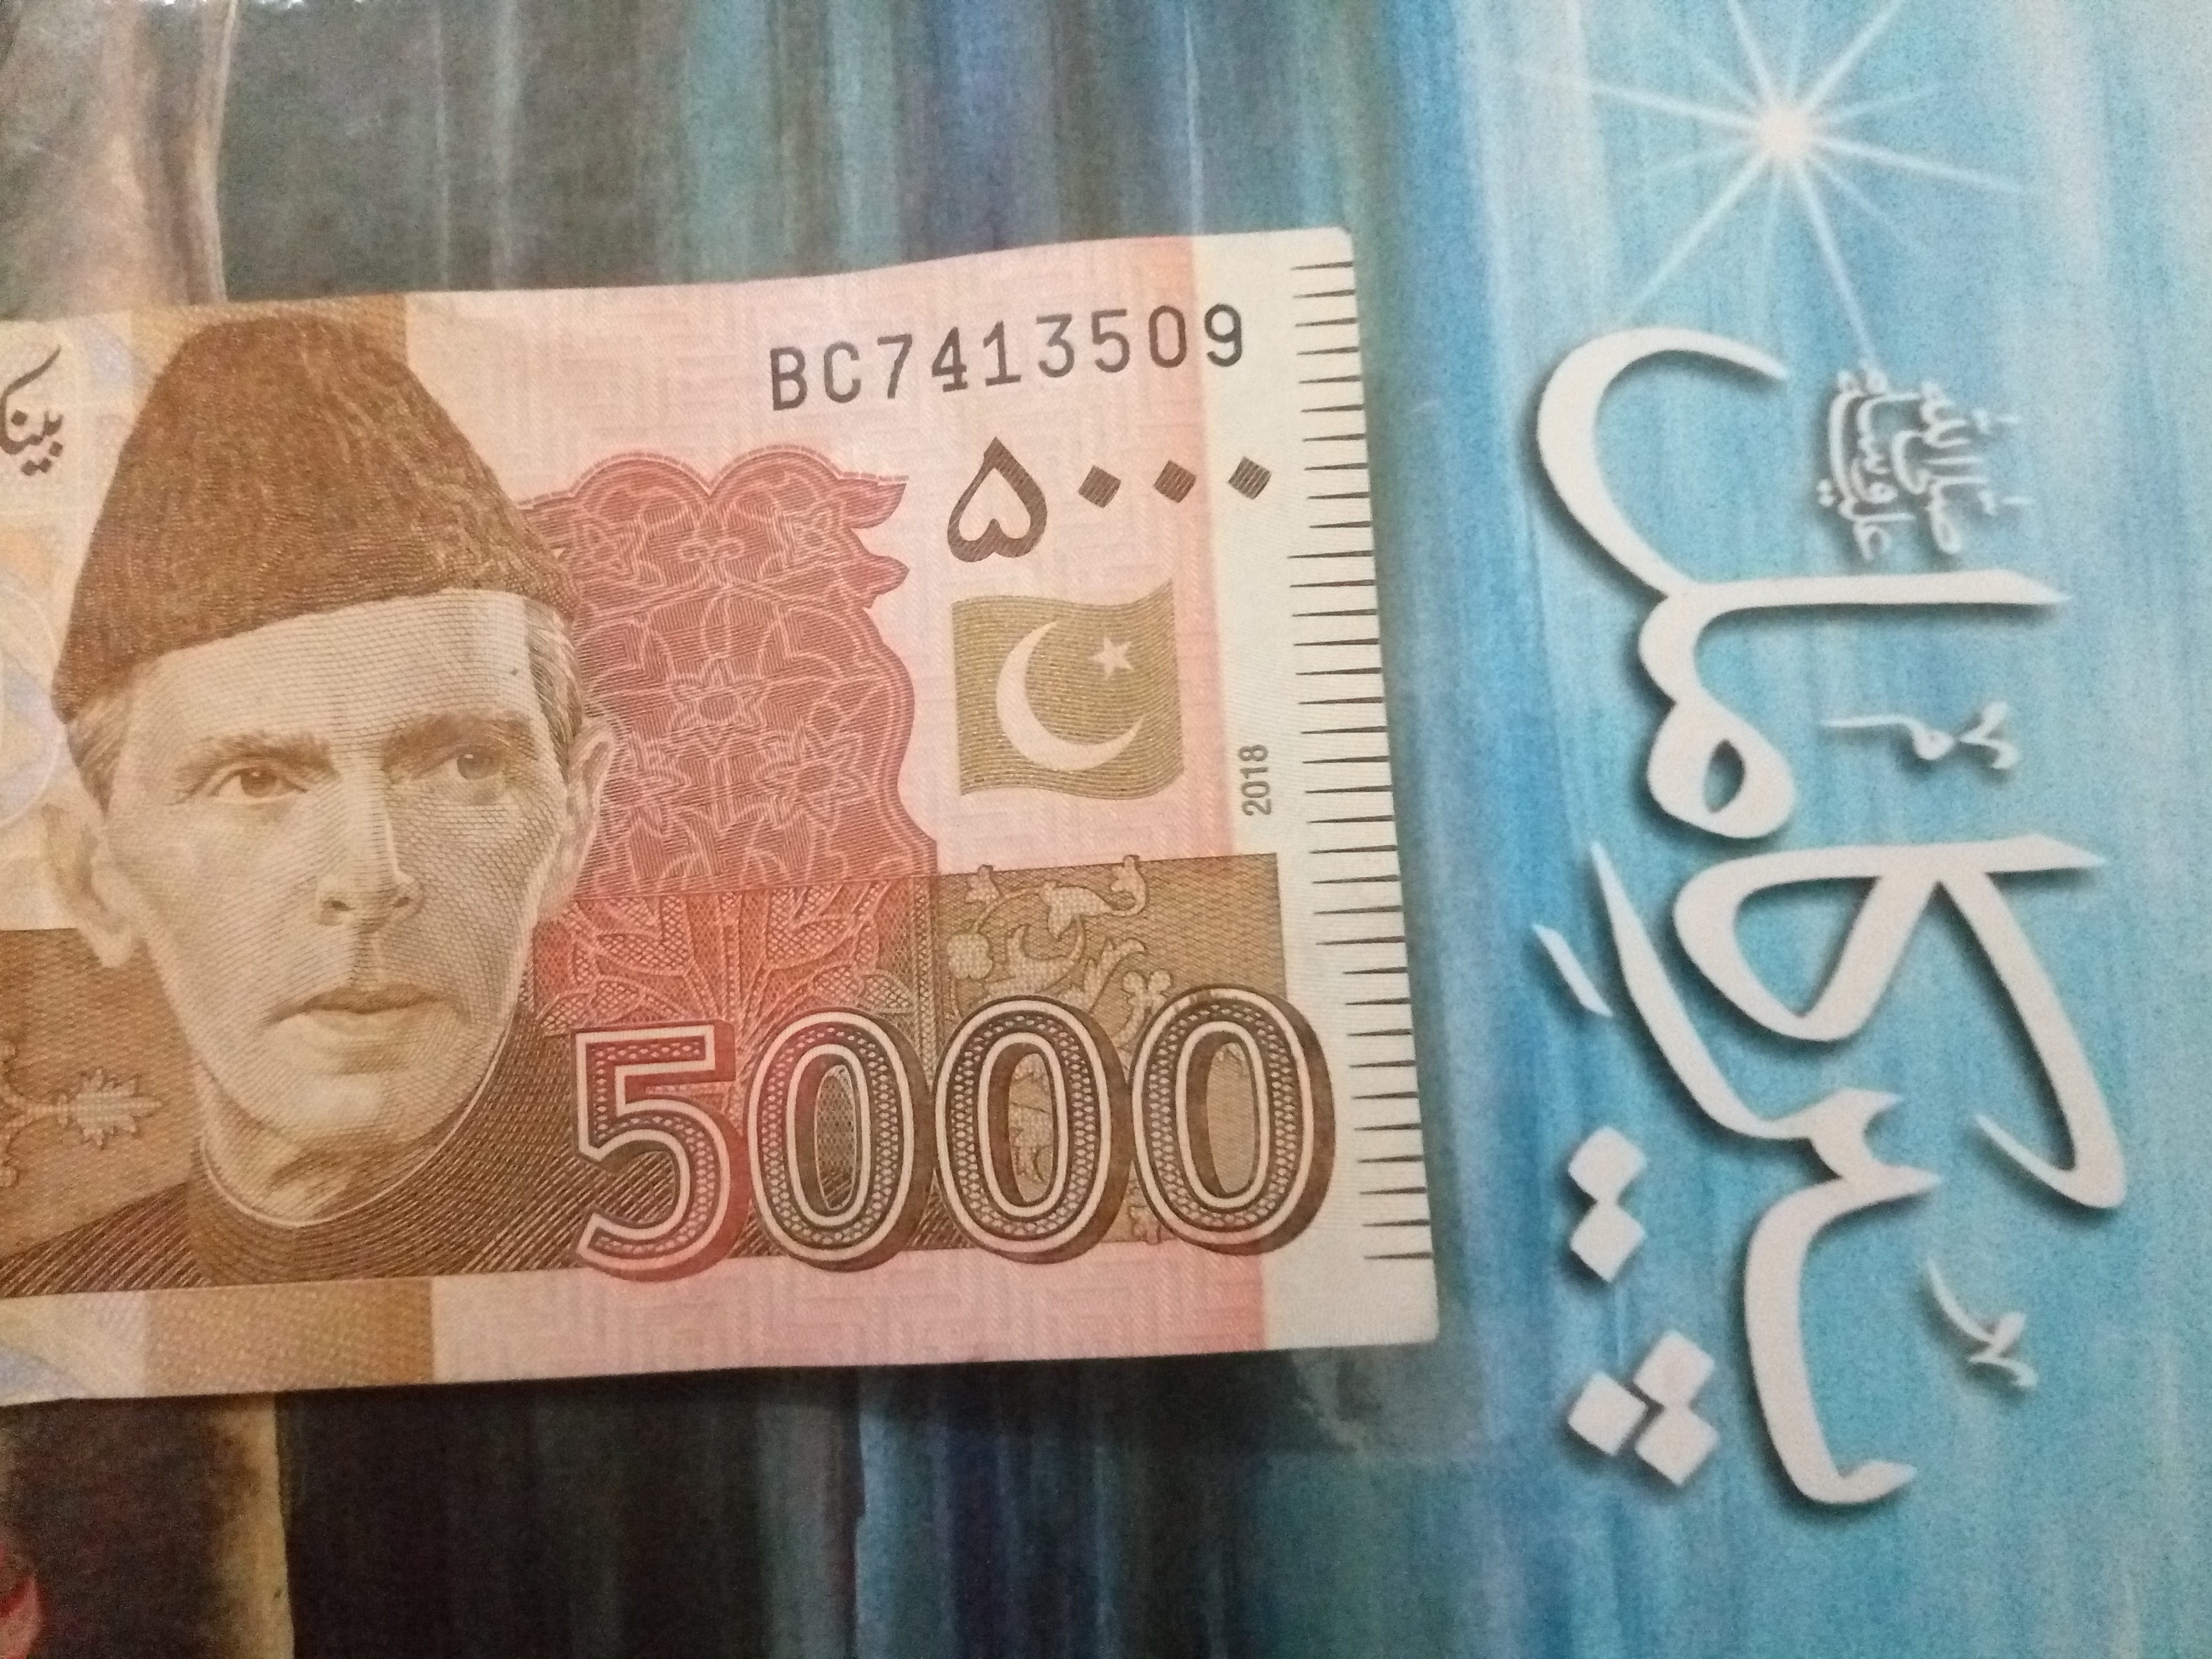5000 rupee: (16, 251, 1505, 1377), (442, 957, 1474, 1363)
